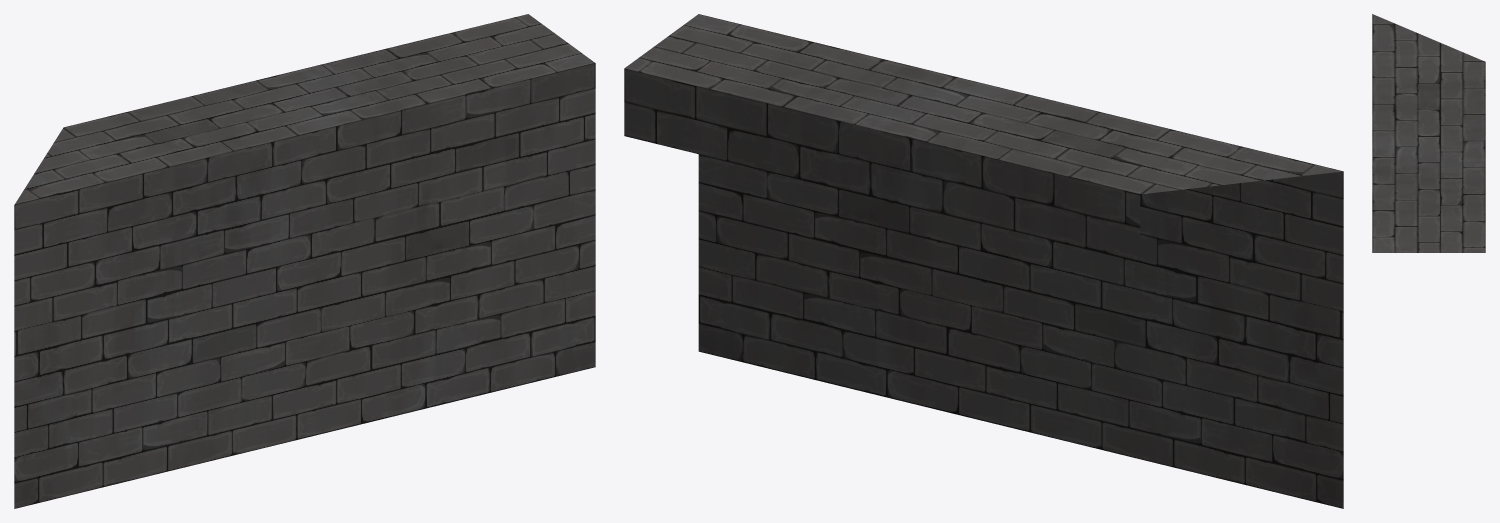
The model's file is Cornice_WornBrick_L.gltf.
3 views of the same model, side by side, from view 1: azimuth 30°, elevation 25°; view 2: azimuth 150°, elevation 25°; view 3: azimuth 270°, elevation 25° (orthographic). The views are drawn at different scales.
Visible parts, largest first — view 1: Cornice_WornBrick_L; view 2: Cornice_WornBrick_L; view 3: Cornice_WornBrick_L.
Part boxes in pixels (<box>): Cornice_WornBrick_L: <box>14,14,595,508</box>; Cornice_WornBrick_L: <box>624,14,1343,508</box>; Cornice_WornBrick_L: <box>1372,14,1485,252</box>.
Size of what is drawn, in the model's own units: 2 by 1 by 0.4.
1 material, 1 textured.
